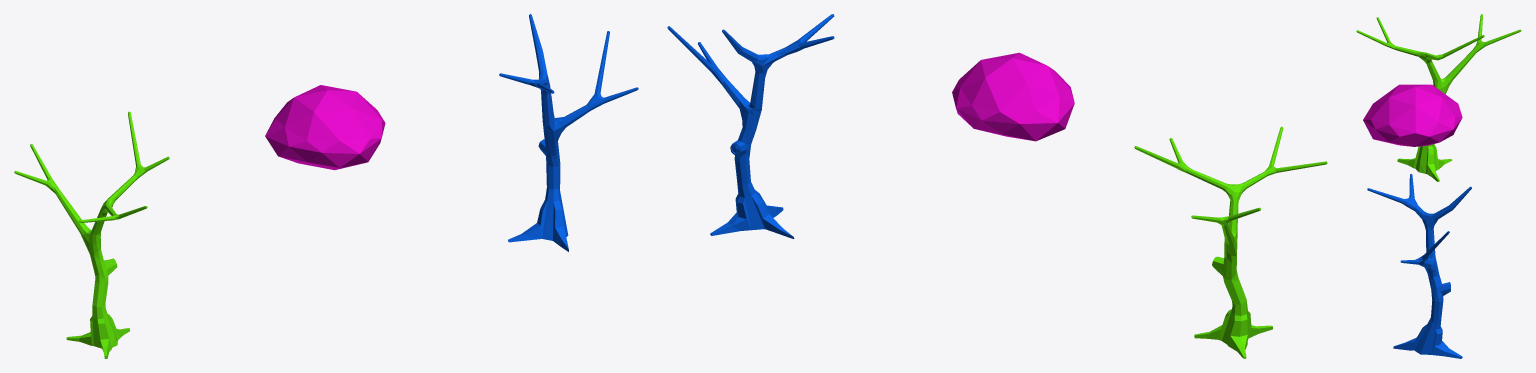
Rendered from baume_a045.fbx.
3 renders of one model, left to right at view 1: azimuth 30°, elevation 25°; view 2: azimuth 150°, elevation 25°; view 3: azimuth 270°, elevation 25°, orthographic. The views are drawn at different scales.
Parts seen in each view (by area): view 1: baum 1.005, baum 1.003, baum 1.002; view 2: baum 1.005, baum 1.003, baum 1.002; view 3: baum 1.005, baum 1.003, baum 1.002.
Part boxes in pixels (<box>): baum 1.005: <box>265,85,385,170</box>; baum 1.003: <box>499,14,638,251</box>; baum 1.002: <box>14,111,169,358</box>; baum 1.005: <box>952,52,1074,141</box>; baum 1.003: <box>667,14,834,238</box>; baum 1.002: <box>1134,126,1327,358</box>; baum 1.005: <box>1363,84,1462,146</box>; baum 1.003: <box>1367,174,1471,358</box>; baum 1.002: <box>1356,14,1521,181</box>.
Bounding box in the file's own units: 4463 × 1539 × 1352.
